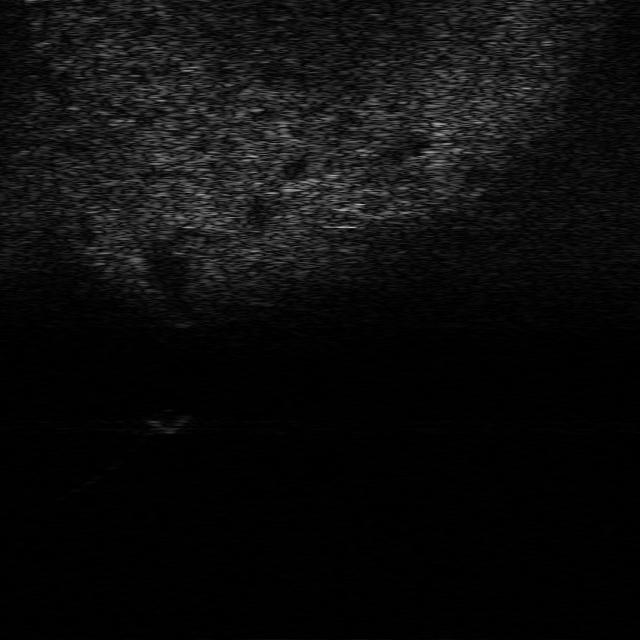cube: (147, 408, 195, 436)
